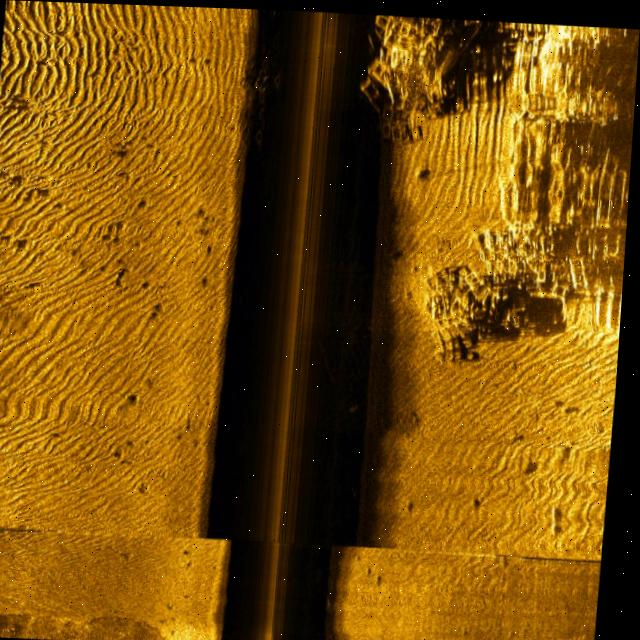artificial reef: (399, 220, 546, 384), (355, 12, 484, 173), (243, 42, 283, 165)
